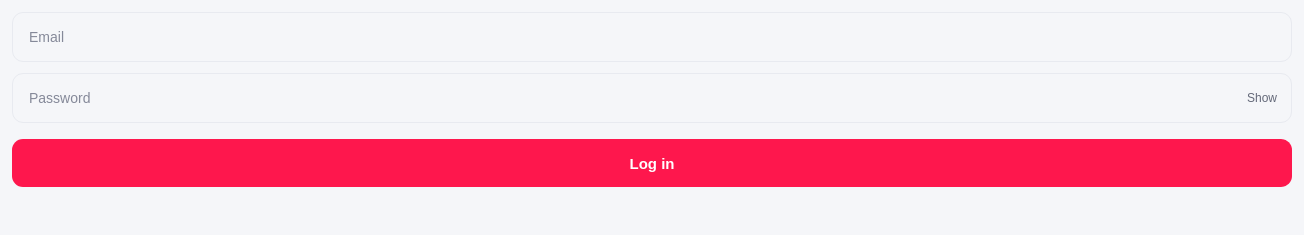
LoginForm › explains when the server cannot be reached
This screenshot has width=1304, height=235.
Type "alice@test.com" into the field with placeholder "Email" at [652, 37], box [12,12,1292,62]
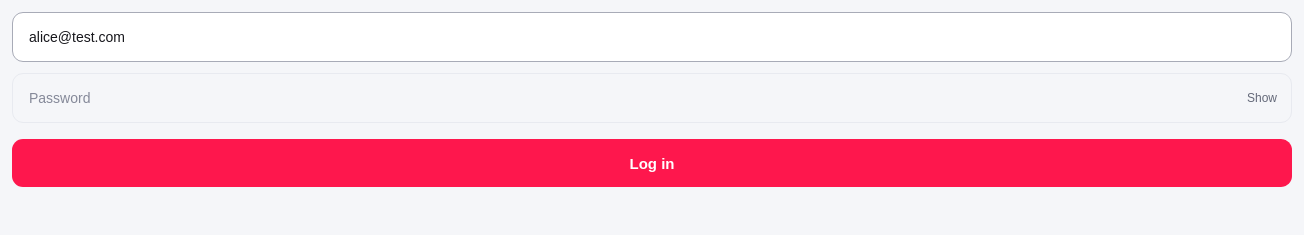
Type "password123" into the password field with placeholder "Password" at [652, 98], box [12,73,1292,123]
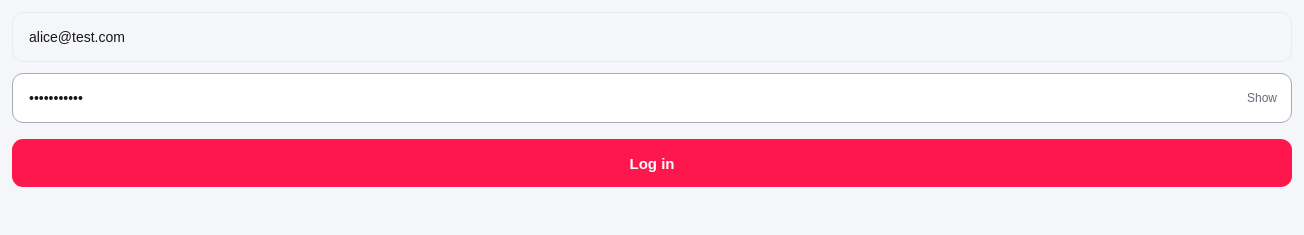
Click the button "Log in" at [652, 163], box [12,139,1292,187]
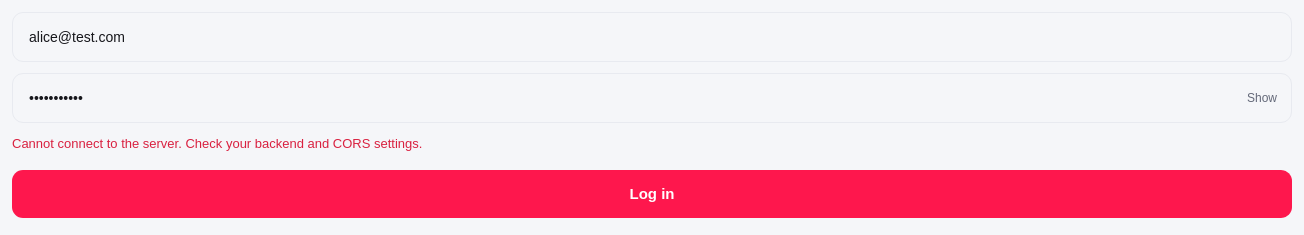
Check: the message shows "Cannot connect to the server", box [12,136,422,151]
